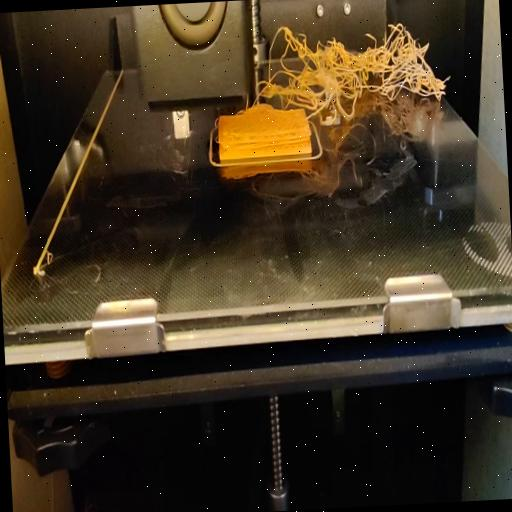spaghetti: (252, 11, 452, 126)
